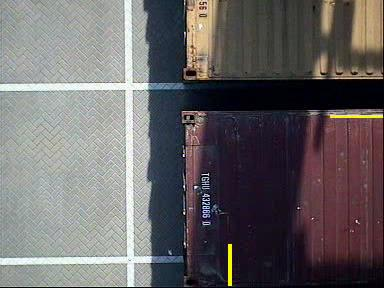groundmarker_2: (199, 231, 246, 288), (199, 70, 246, 126)
